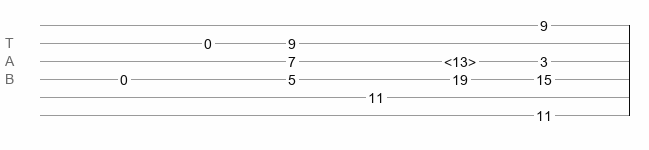0: (120, 72, 128, 82), (204, 36, 212, 46)
11: (368, 90, 384, 100), (536, 108, 552, 118)
15: (536, 72, 552, 82)
19: (452, 72, 468, 82)
3: (540, 54, 548, 64)
5: (288, 72, 296, 82)
7: (288, 54, 296, 64)
9: (288, 36, 296, 46), (540, 18, 548, 28)
harmonic: (444, 54, 476, 64)
